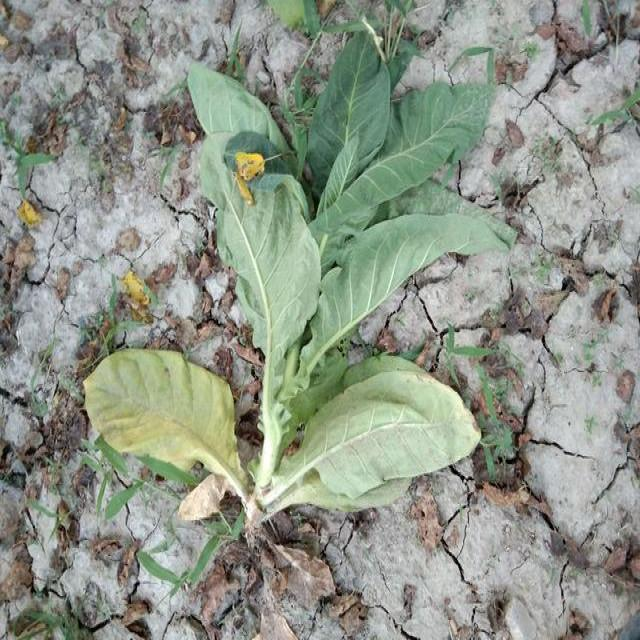crop: (98, 30, 495, 511)
